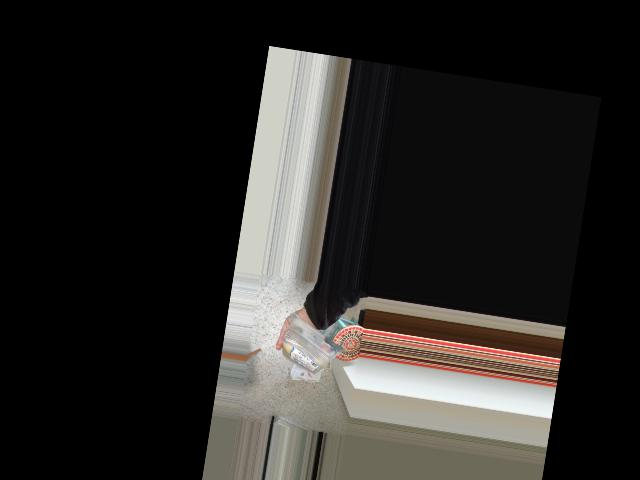cheese: (288, 322, 325, 389)
